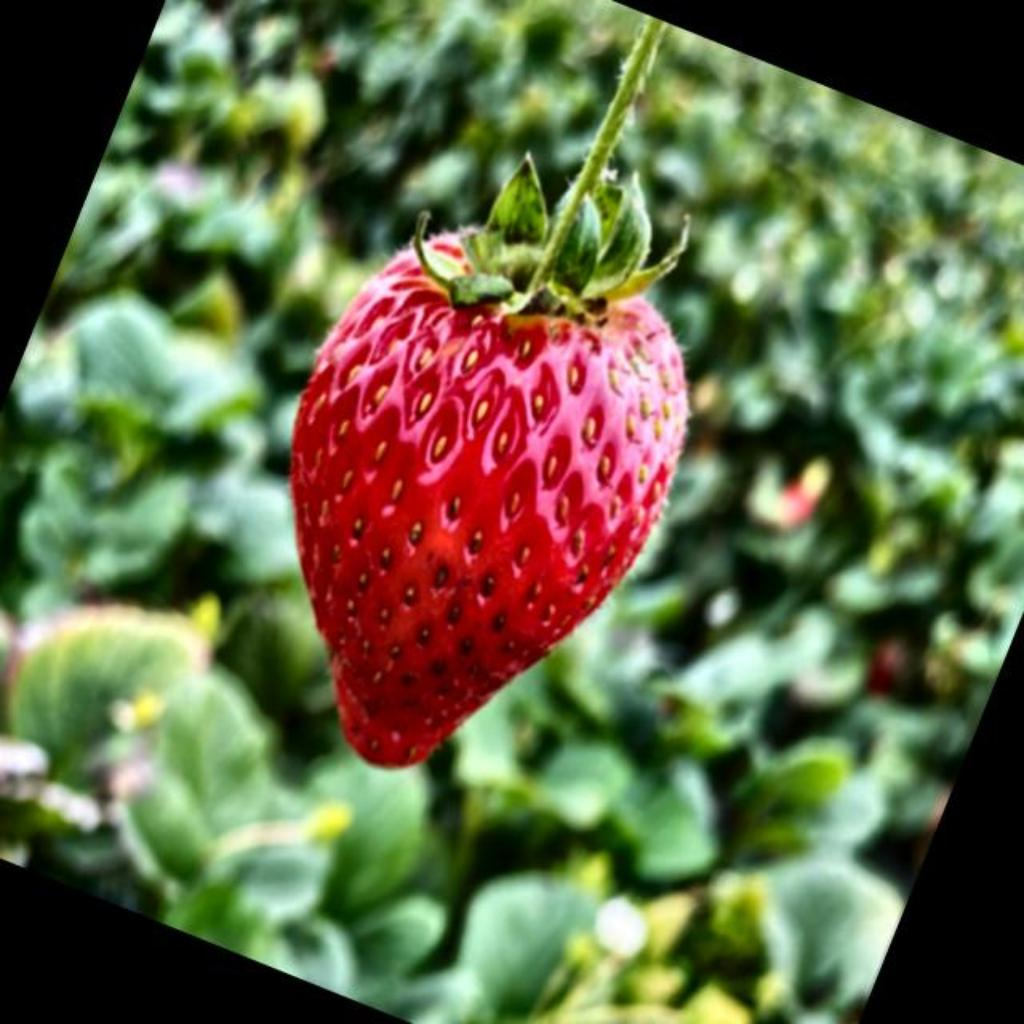strawberry: (292, 22, 686, 766)
